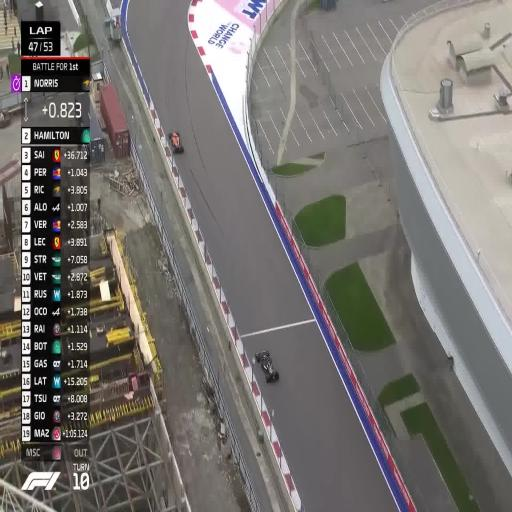f1_car: (255, 350, 279, 382), (169, 132, 183, 153)
